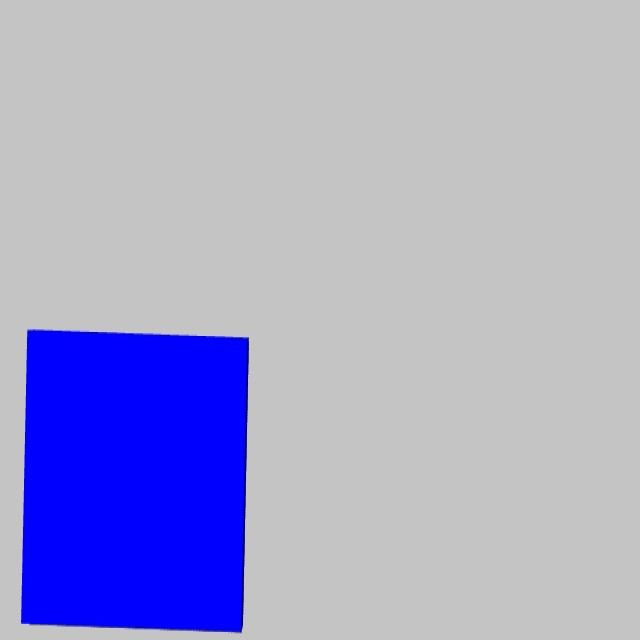blue_square: (20, 328, 250, 633)
